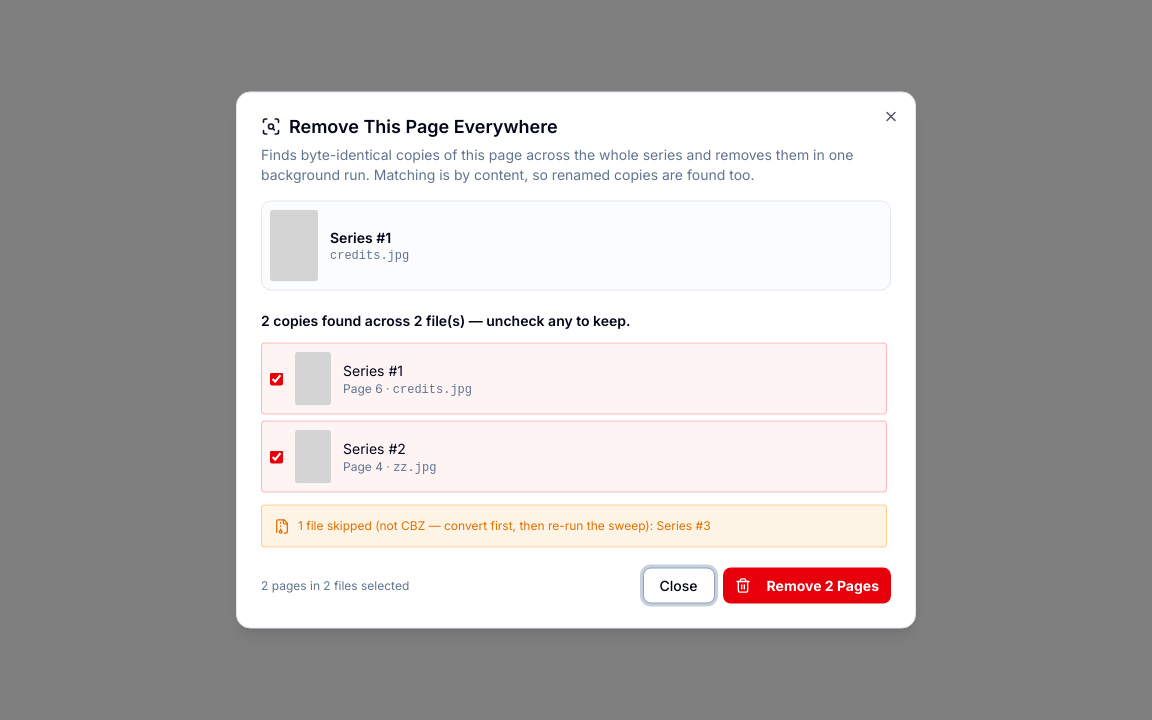
Test: Page sweep modal (issue #189 Phase 3) › reaches the done summary when the poll reports completion
The image size is (1152, 720).
Expected: the text "2 copies found across 2 file(s) — uncheck any to keep." is shown, [261,312,630,328]
Click the button "Remove 2 Pages": (807, 586) [722,568,891,604]
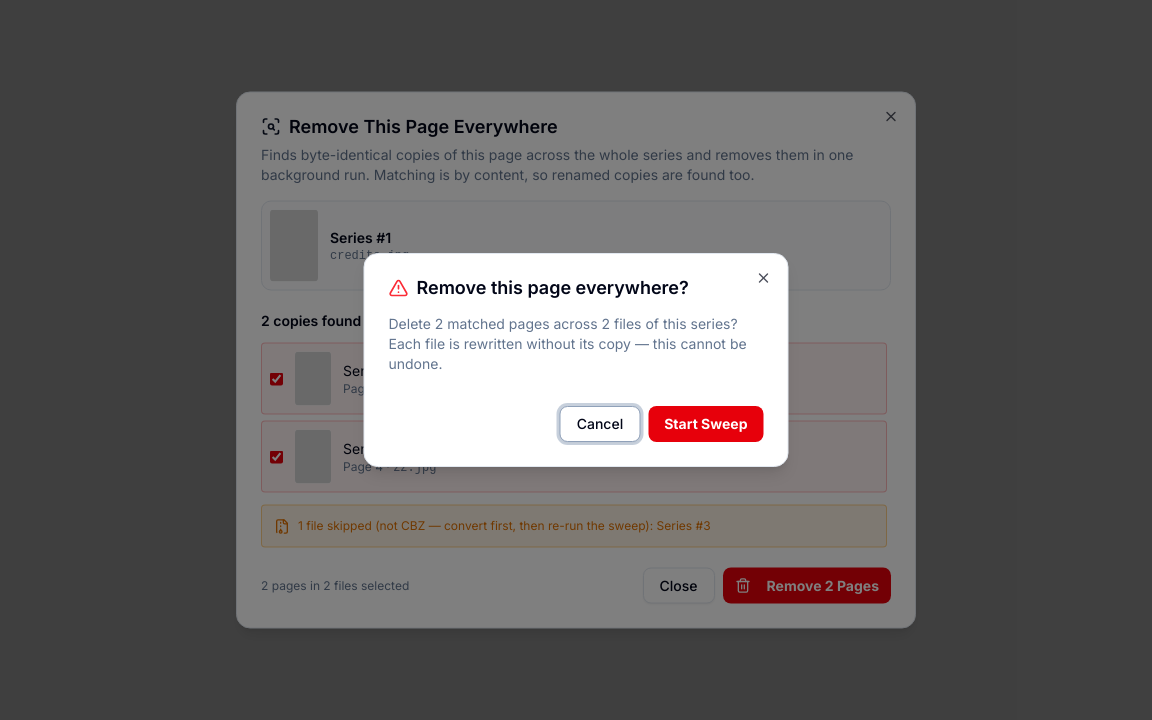
Click the button "Start Sweep": (706, 424) [648,406,764,442]
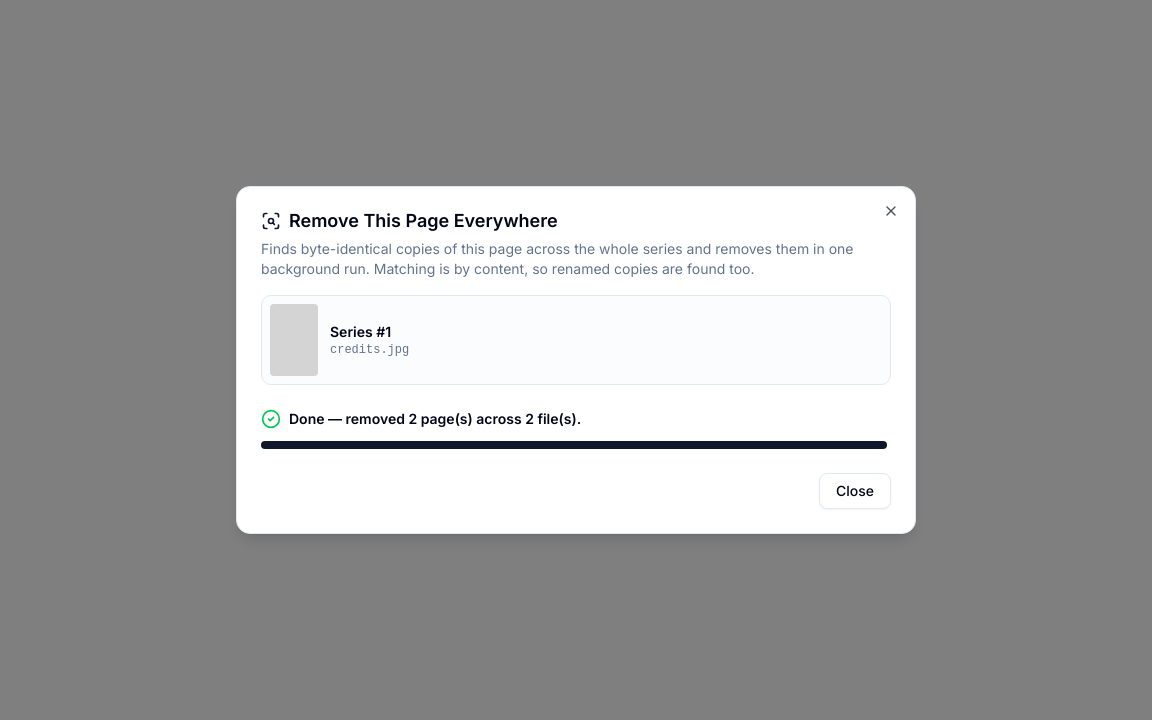
Expected: the text "Done — removed 2 page(s) across 2 file(s)." is shown, [289,409,581,429]
